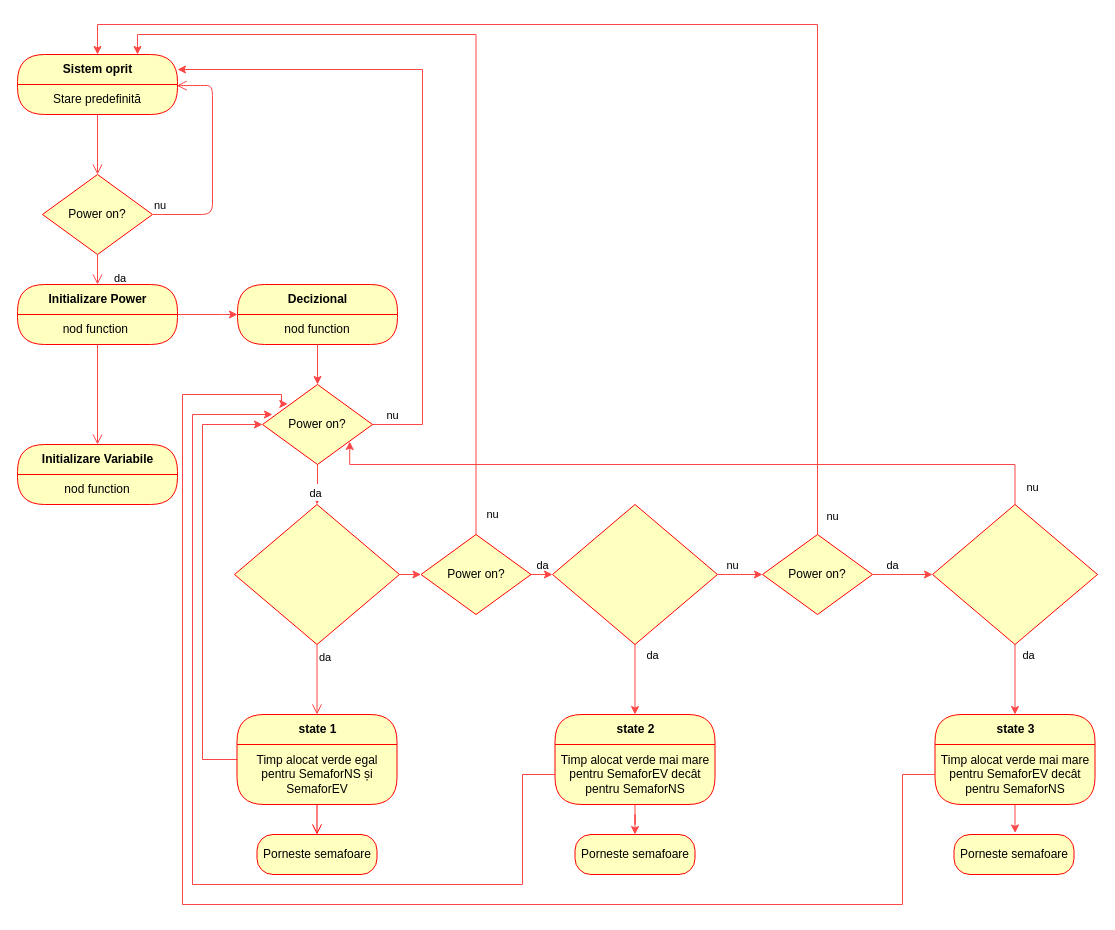
This 1115x930 diagram has some shape labels left out. The shapes that lost their labels are listed below. From the top down, each one's centre as x and y in pixels, then its label:
the point at 317,574: Lungime SemaforNS ≈ Lungime SemaforEV?
the point at 635,574: Lungime SemaforEV > Lungime SemaforNS?
the point at 1015,574: Lungime SemaforNS > Lungime SemaforEV?
